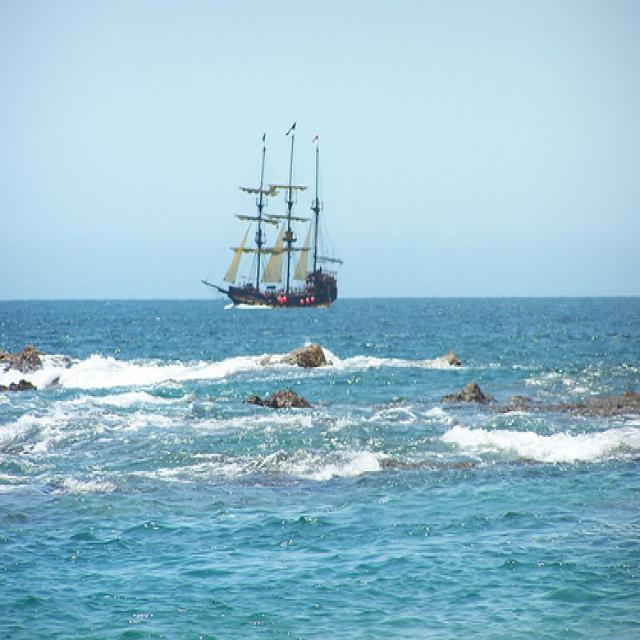Ship: (216, 109, 342, 310)
